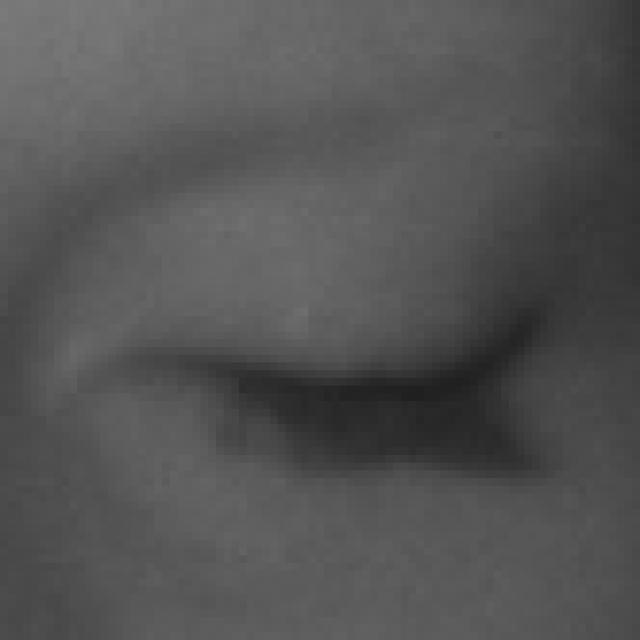Eyeclosed: (141, 196, 535, 567)
